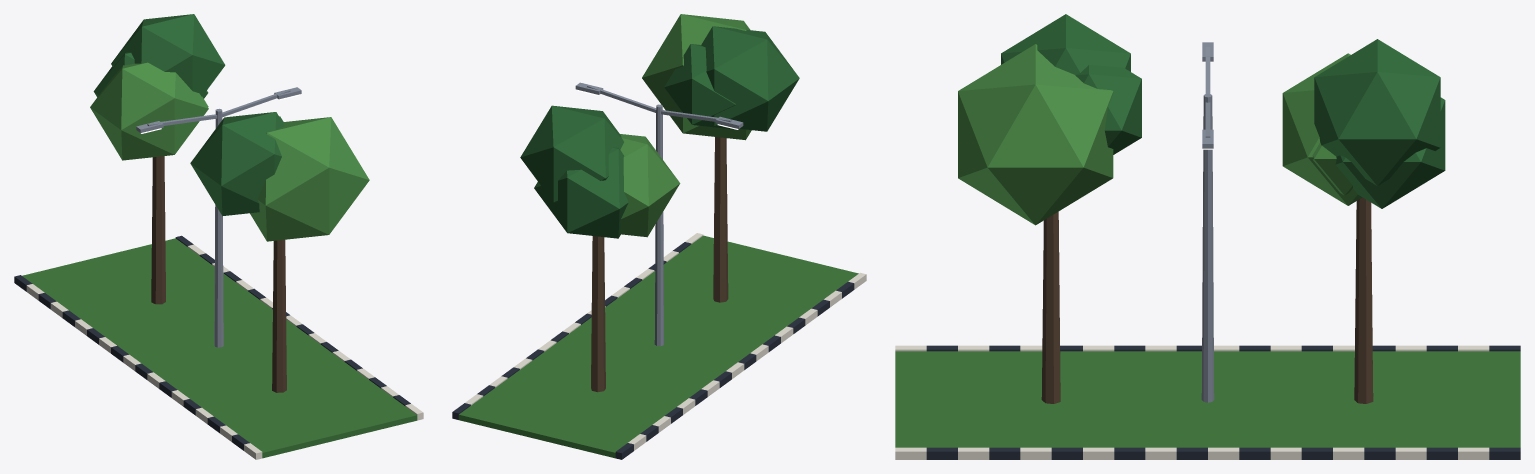
The model's file is boulevard_median.glb.
The picture shows the model from 3 angles, left to right: view 1: azimuth 30°, elevation 25°; view 2: azimuth 150°, elevation 25°; view 3: azimuth 270°, elevation 25°; orthographic projection. The views are drawn at different scales.
Visible parts, largest first — view 1: median; view 2: median; view 3: median.
Boxes of the visible parts, x1,y1,x2,y2 form: median: [14, 14, 423, 459]; median: [452, 14, 866, 459]; median: [895, 14, 1520, 459].
Size of the model in its own units: 8 by 12.75 by 20.
